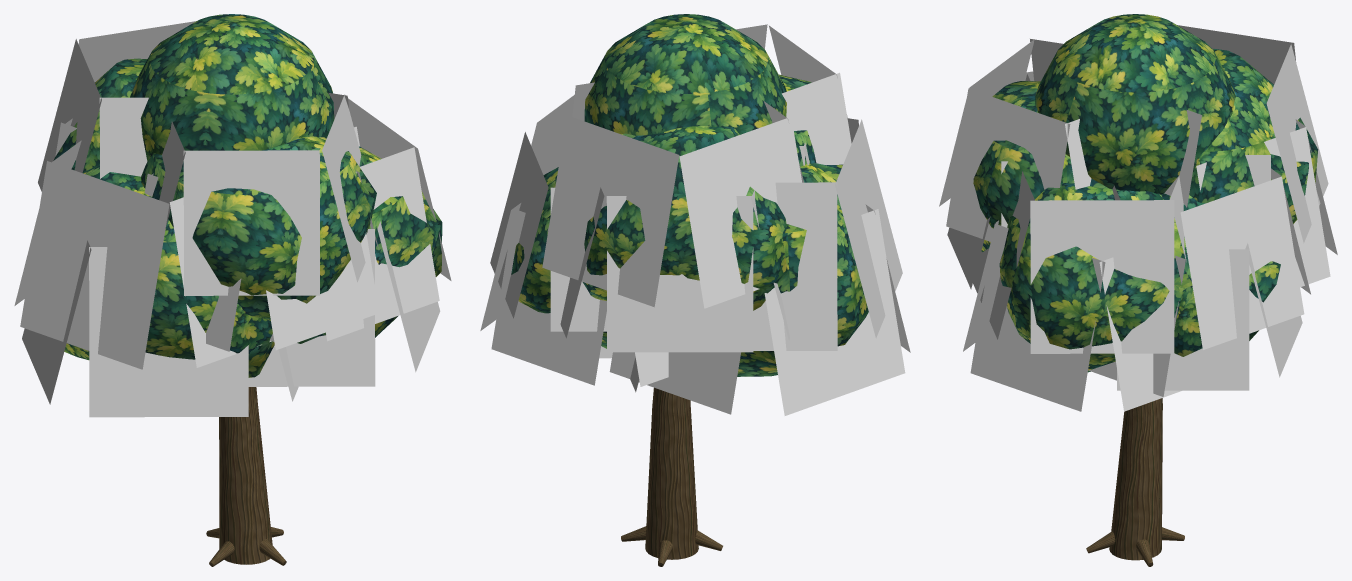
The model's file is Tree_Street.fbx.
3 renders of one model, left to right at view 1: azimuth 30°, elevation 25°; view 2: azimuth 150°, elevation 25°; view 3: azimuth 270°, elevation 25°, orthographic. The views are drawn at different scales.
Visible parts, largest first — view 1: Tree_Street.001; view 2: Tree_Street.001; view 3: Tree_Street.001.
Part boxes in pixels (box(x1,y1,x2,y2)): Tree_Street.001: box(14, 14, 451, 566); Tree_Street.001: box(480, 14, 910, 566); Tree_Street.001: box(939, 14, 1337, 566).
Size of the model in its own units: 418 by 557 by 388.
3 materials, 2 textured.
